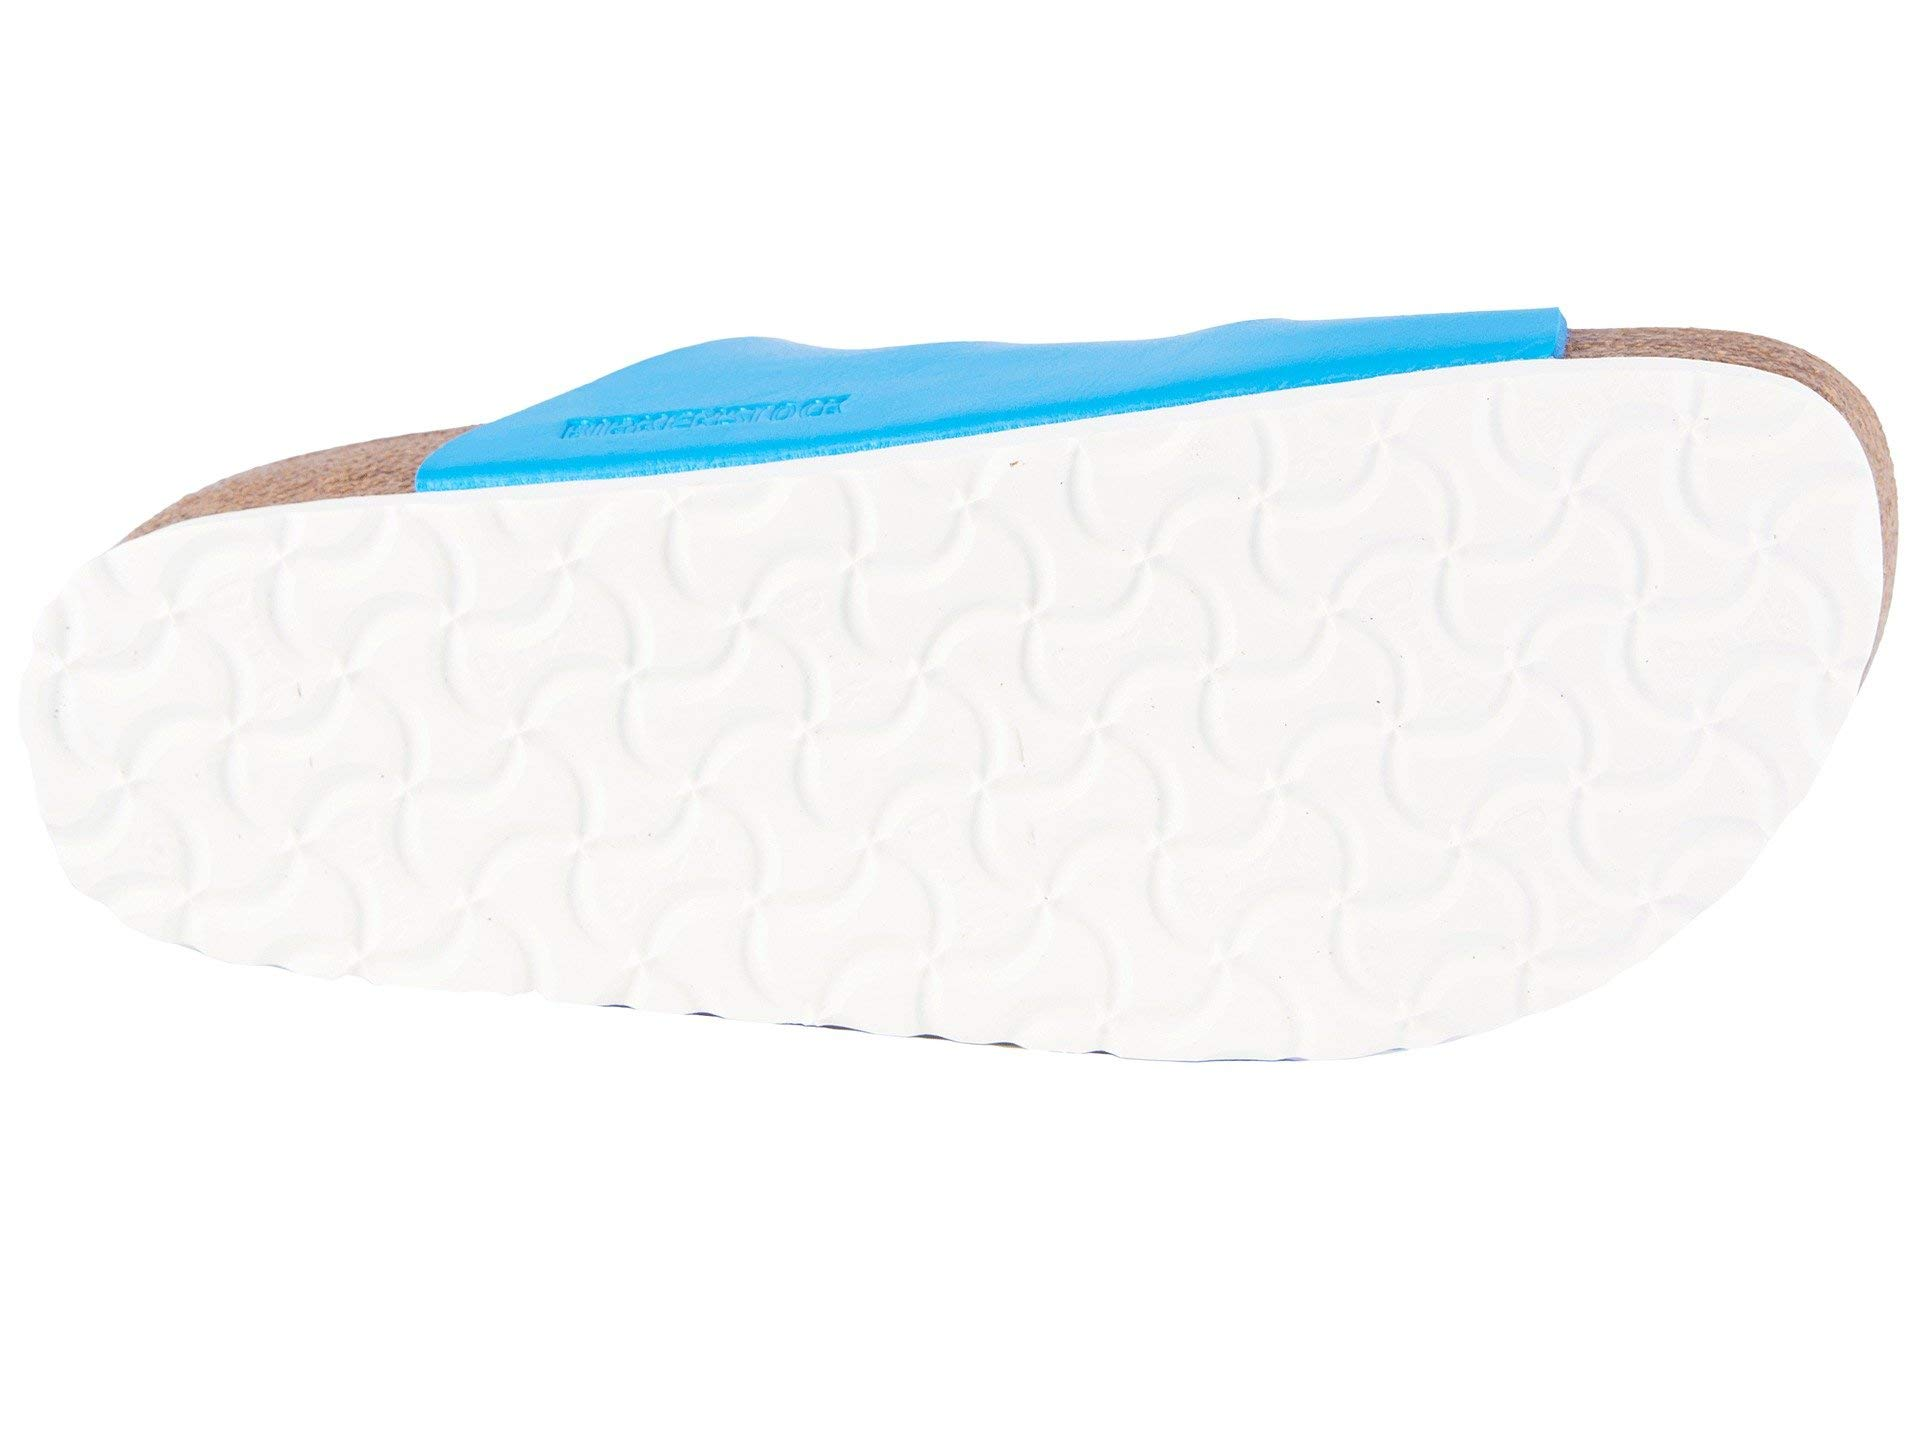bowtie: (1089, 446, 1646, 965), (573, 504, 1073, 970), (153, 561, 561, 985)
text: (1089, 446, 1646, 965), (573, 504, 1073, 970), (153, 561, 561, 985)
